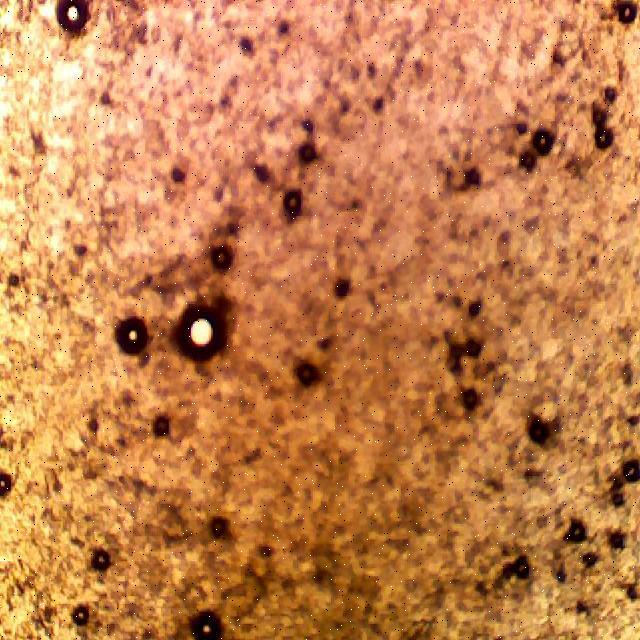microbeads: (174, 304, 228, 364), (113, 316, 151, 360), (53, 1, 95, 37), (187, 608, 225, 640), (280, 186, 304, 218), (90, 548, 110, 576), (72, 601, 91, 629)
